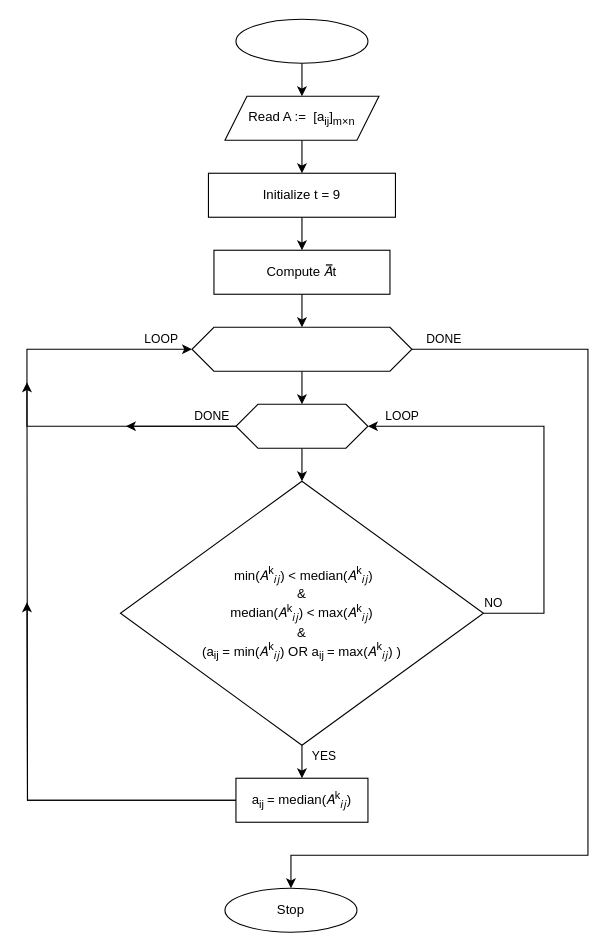
Some shapes in this 616 by 952 pixel diagram are drawn without their labels. Each missing label, with the centre of its shape:
"For all i and j" goes at [301,348].
"For k from 1 to t" goes at [301,425].
"Start" goes at [301,40].
